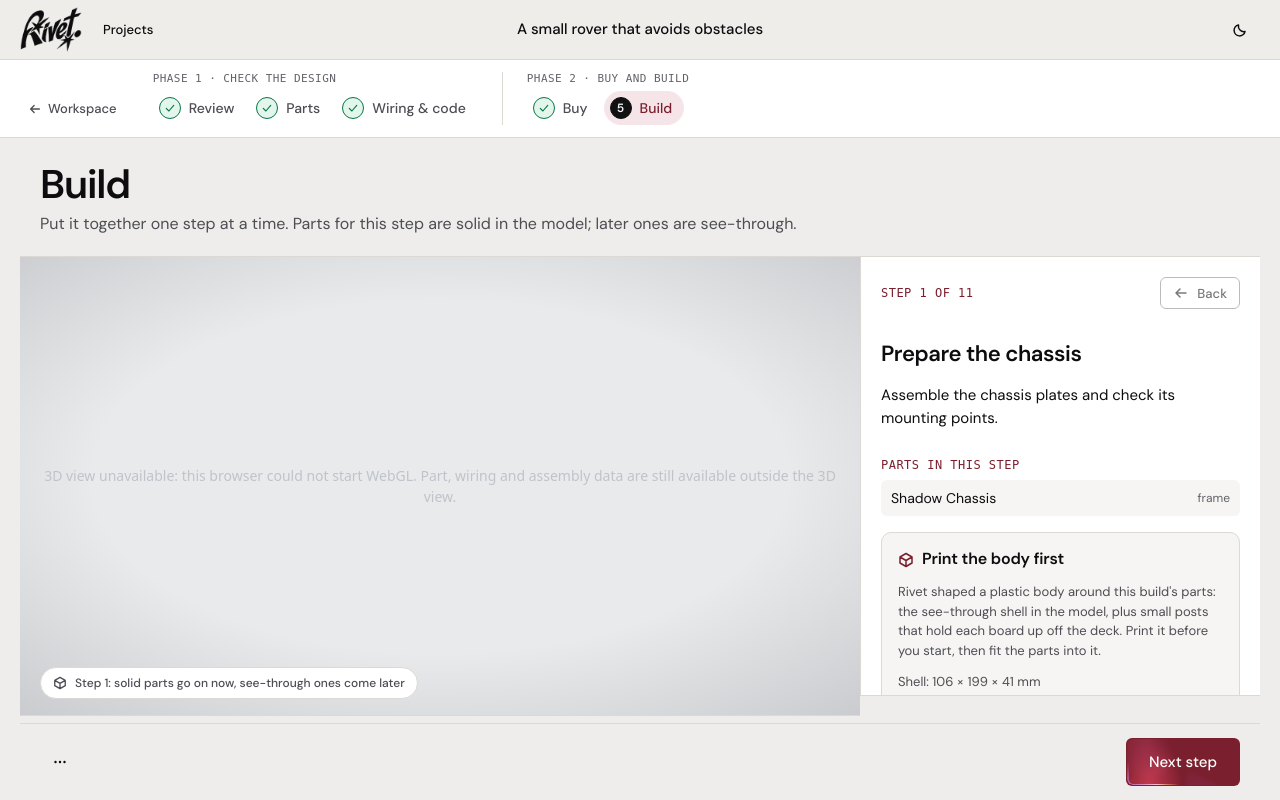
Test: Step 5 Build › marks a part missing from the overflow and shows it as a note on the step
The image size is (1280, 800).
Check: the list with test id "build-parts" is shown, box [881,480,1240,516]
Click the button with test id "step-overflow".
click(60, 762)  # box [40,742,80,782]
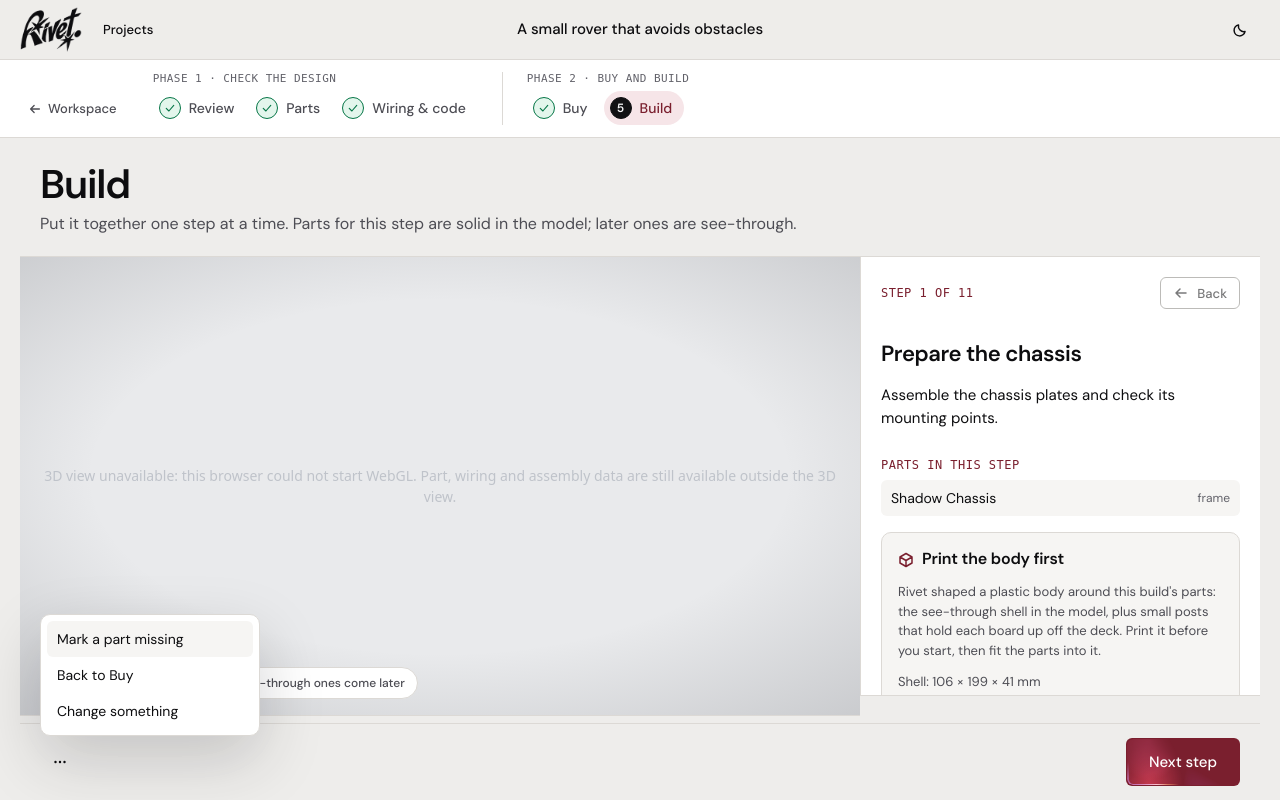
Click the menu item with test id "build-mark-missing".
click(150, 639)  # box [47,621,253,657]
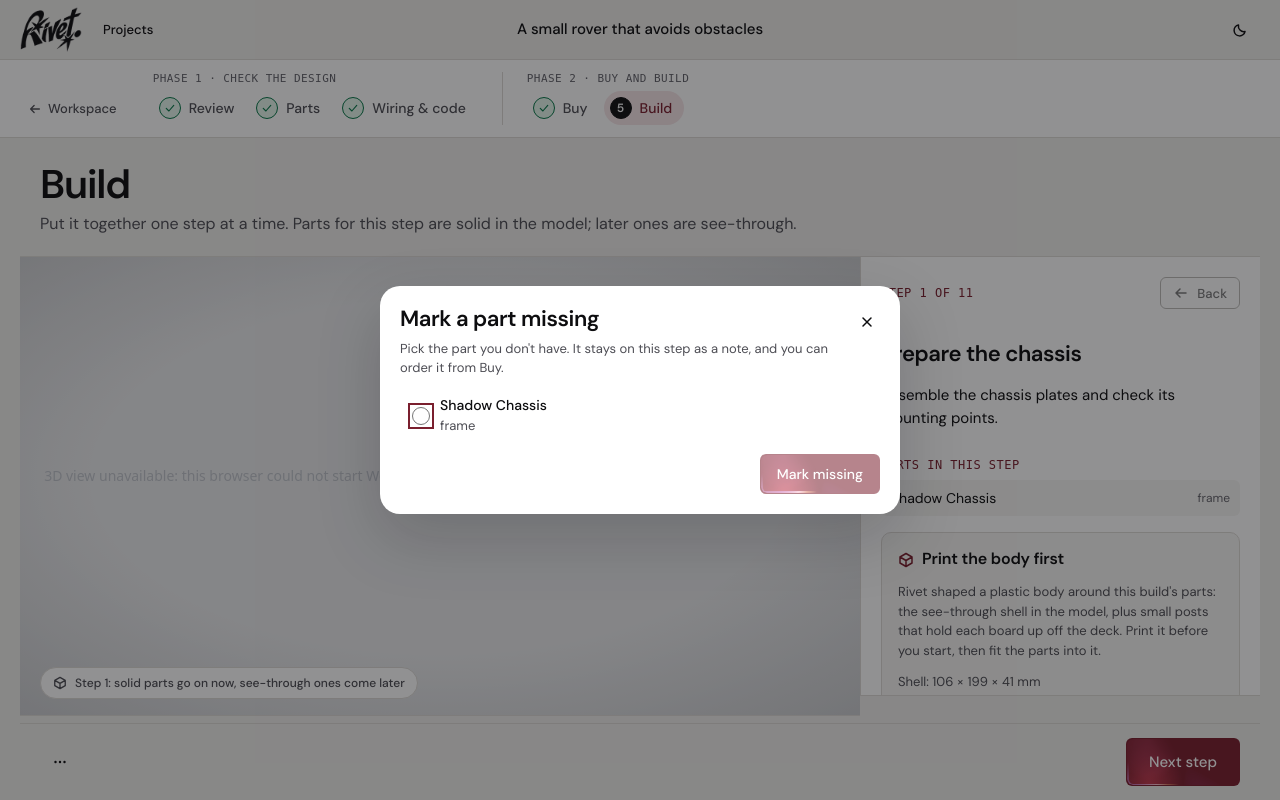
Click the radio button with test id "build-missing-chassis-1".
click(421, 416)  # box [412,407,430,425]
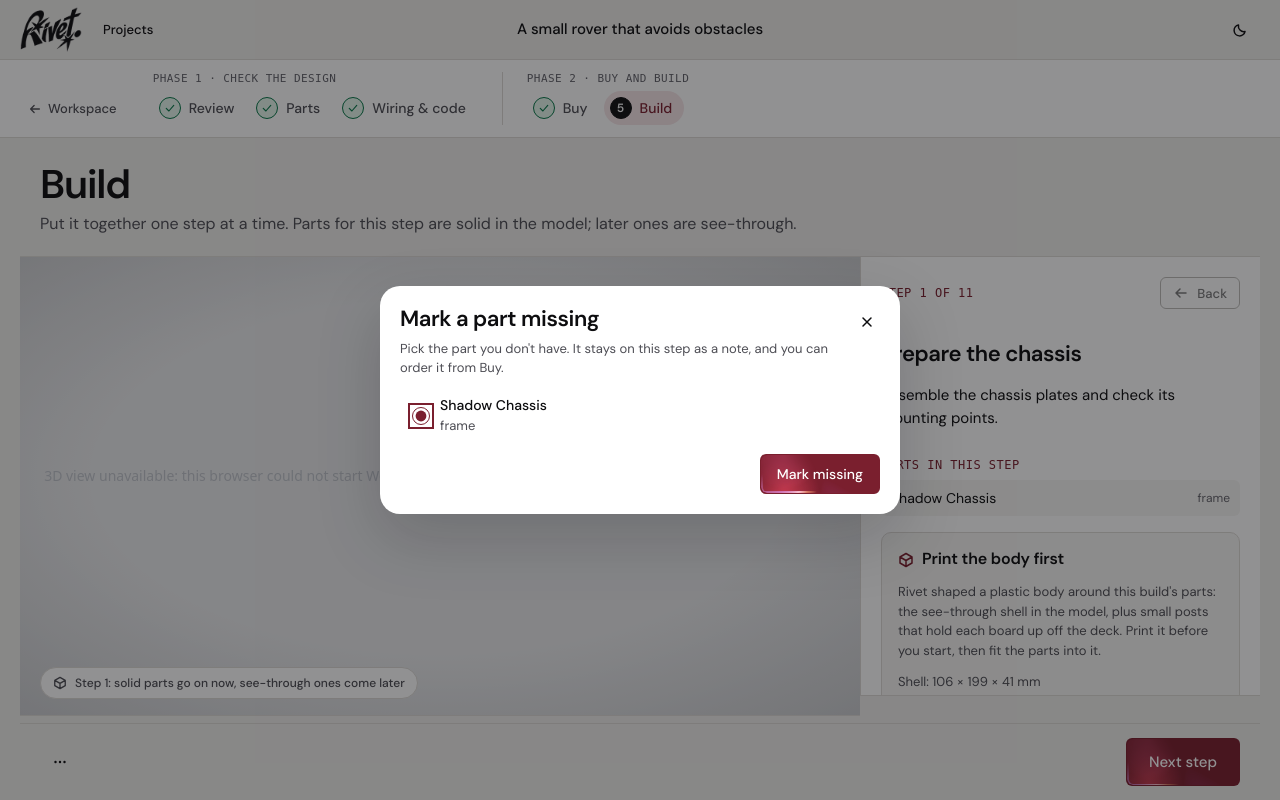
Click the button with test id "build-missing-confirm".
click(820, 474)  # box [760,454,880,494]
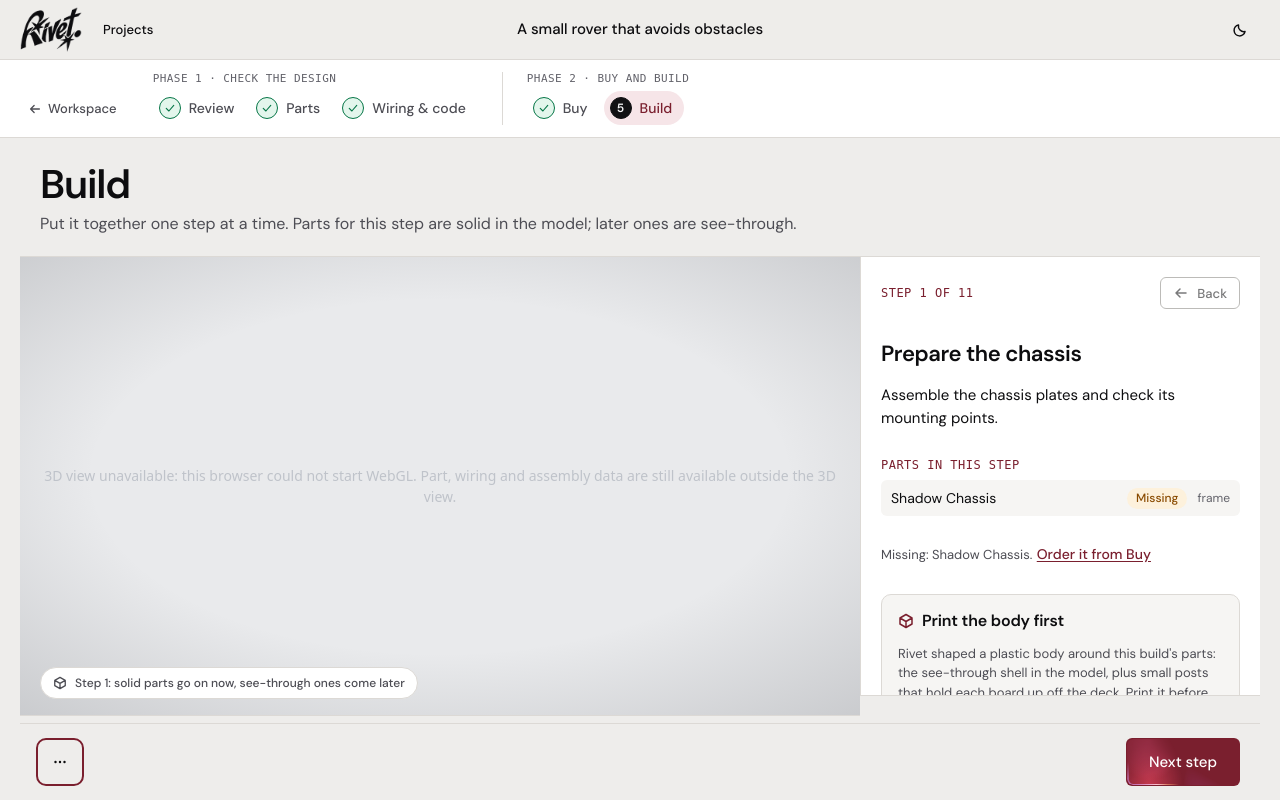
Check: the element with test id "build-missing-note" shows "Shadow Chassis", box [932,546,1030,564]
